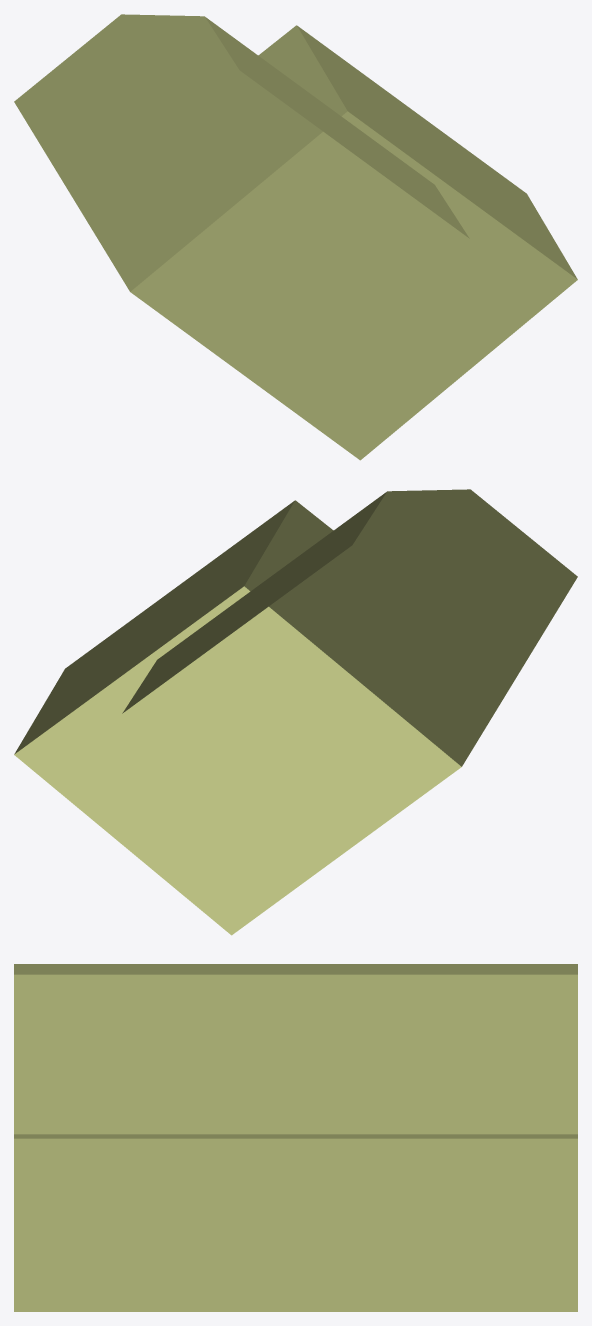
3 renders of one model, top to bottom at view 1: azimuth 30°, elevation 25°; view 2: azimuth 150°, elevation 25°; view 3: azimuth 270°, elevation 25°, orthographic. The views are drawn at different scales.
Parts seen in each view (by area): view 1: 0_1_2_0_3_3_0_2_2_3_0; view 2: 0_1_2_0_3_3_0_2_2_3_0; view 3: 0_1_2_0_3_3_0_2_2_3_0.
Part boxes in pixels (x1,y1,x2,y2): 0_1_2_0_3_3_0_2_2_3_0: [14, 14, 577, 460]; 0_1_2_0_3_3_0_2_2_3_0: [14, 489, 577, 935]; 0_1_2_0_3_3_0_2_2_3_0: [14, 964, 577, 1311].
Size of the model in its own units: 7.53 by 6.03 by 9.
